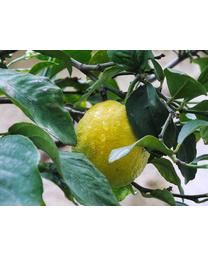lemon: (73, 99, 153, 193)
